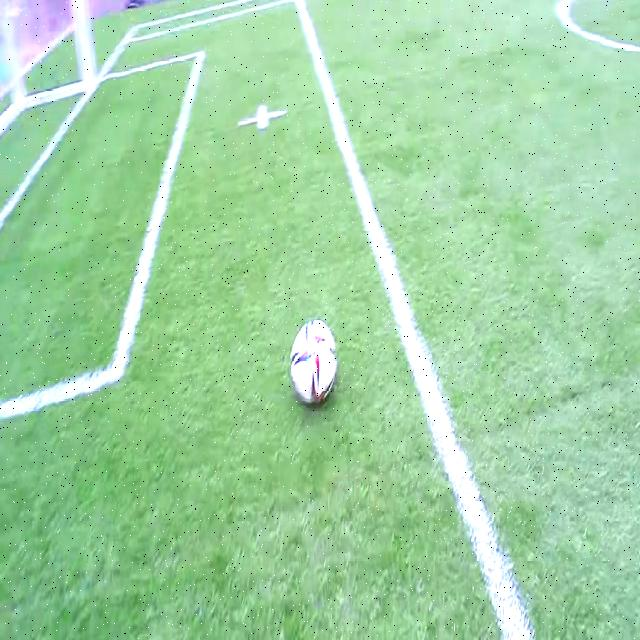ball: (290, 319, 336, 400)
